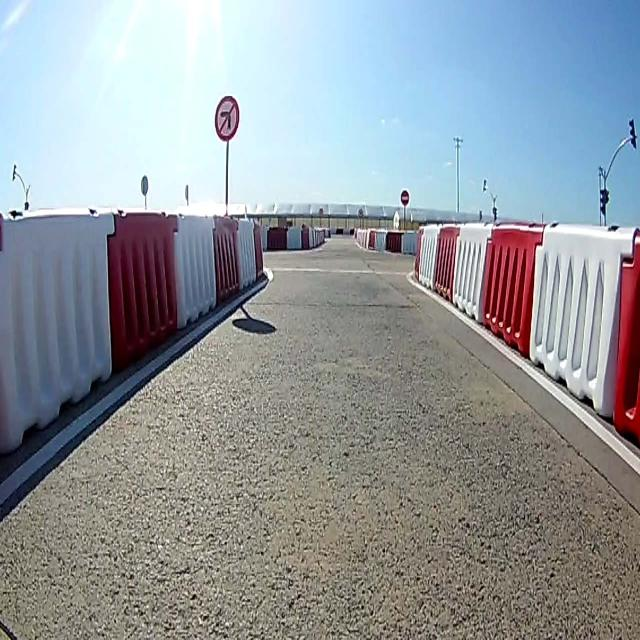girisyok: (400, 188, 409, 207)
soladonulmez: (215, 93, 239, 145)
